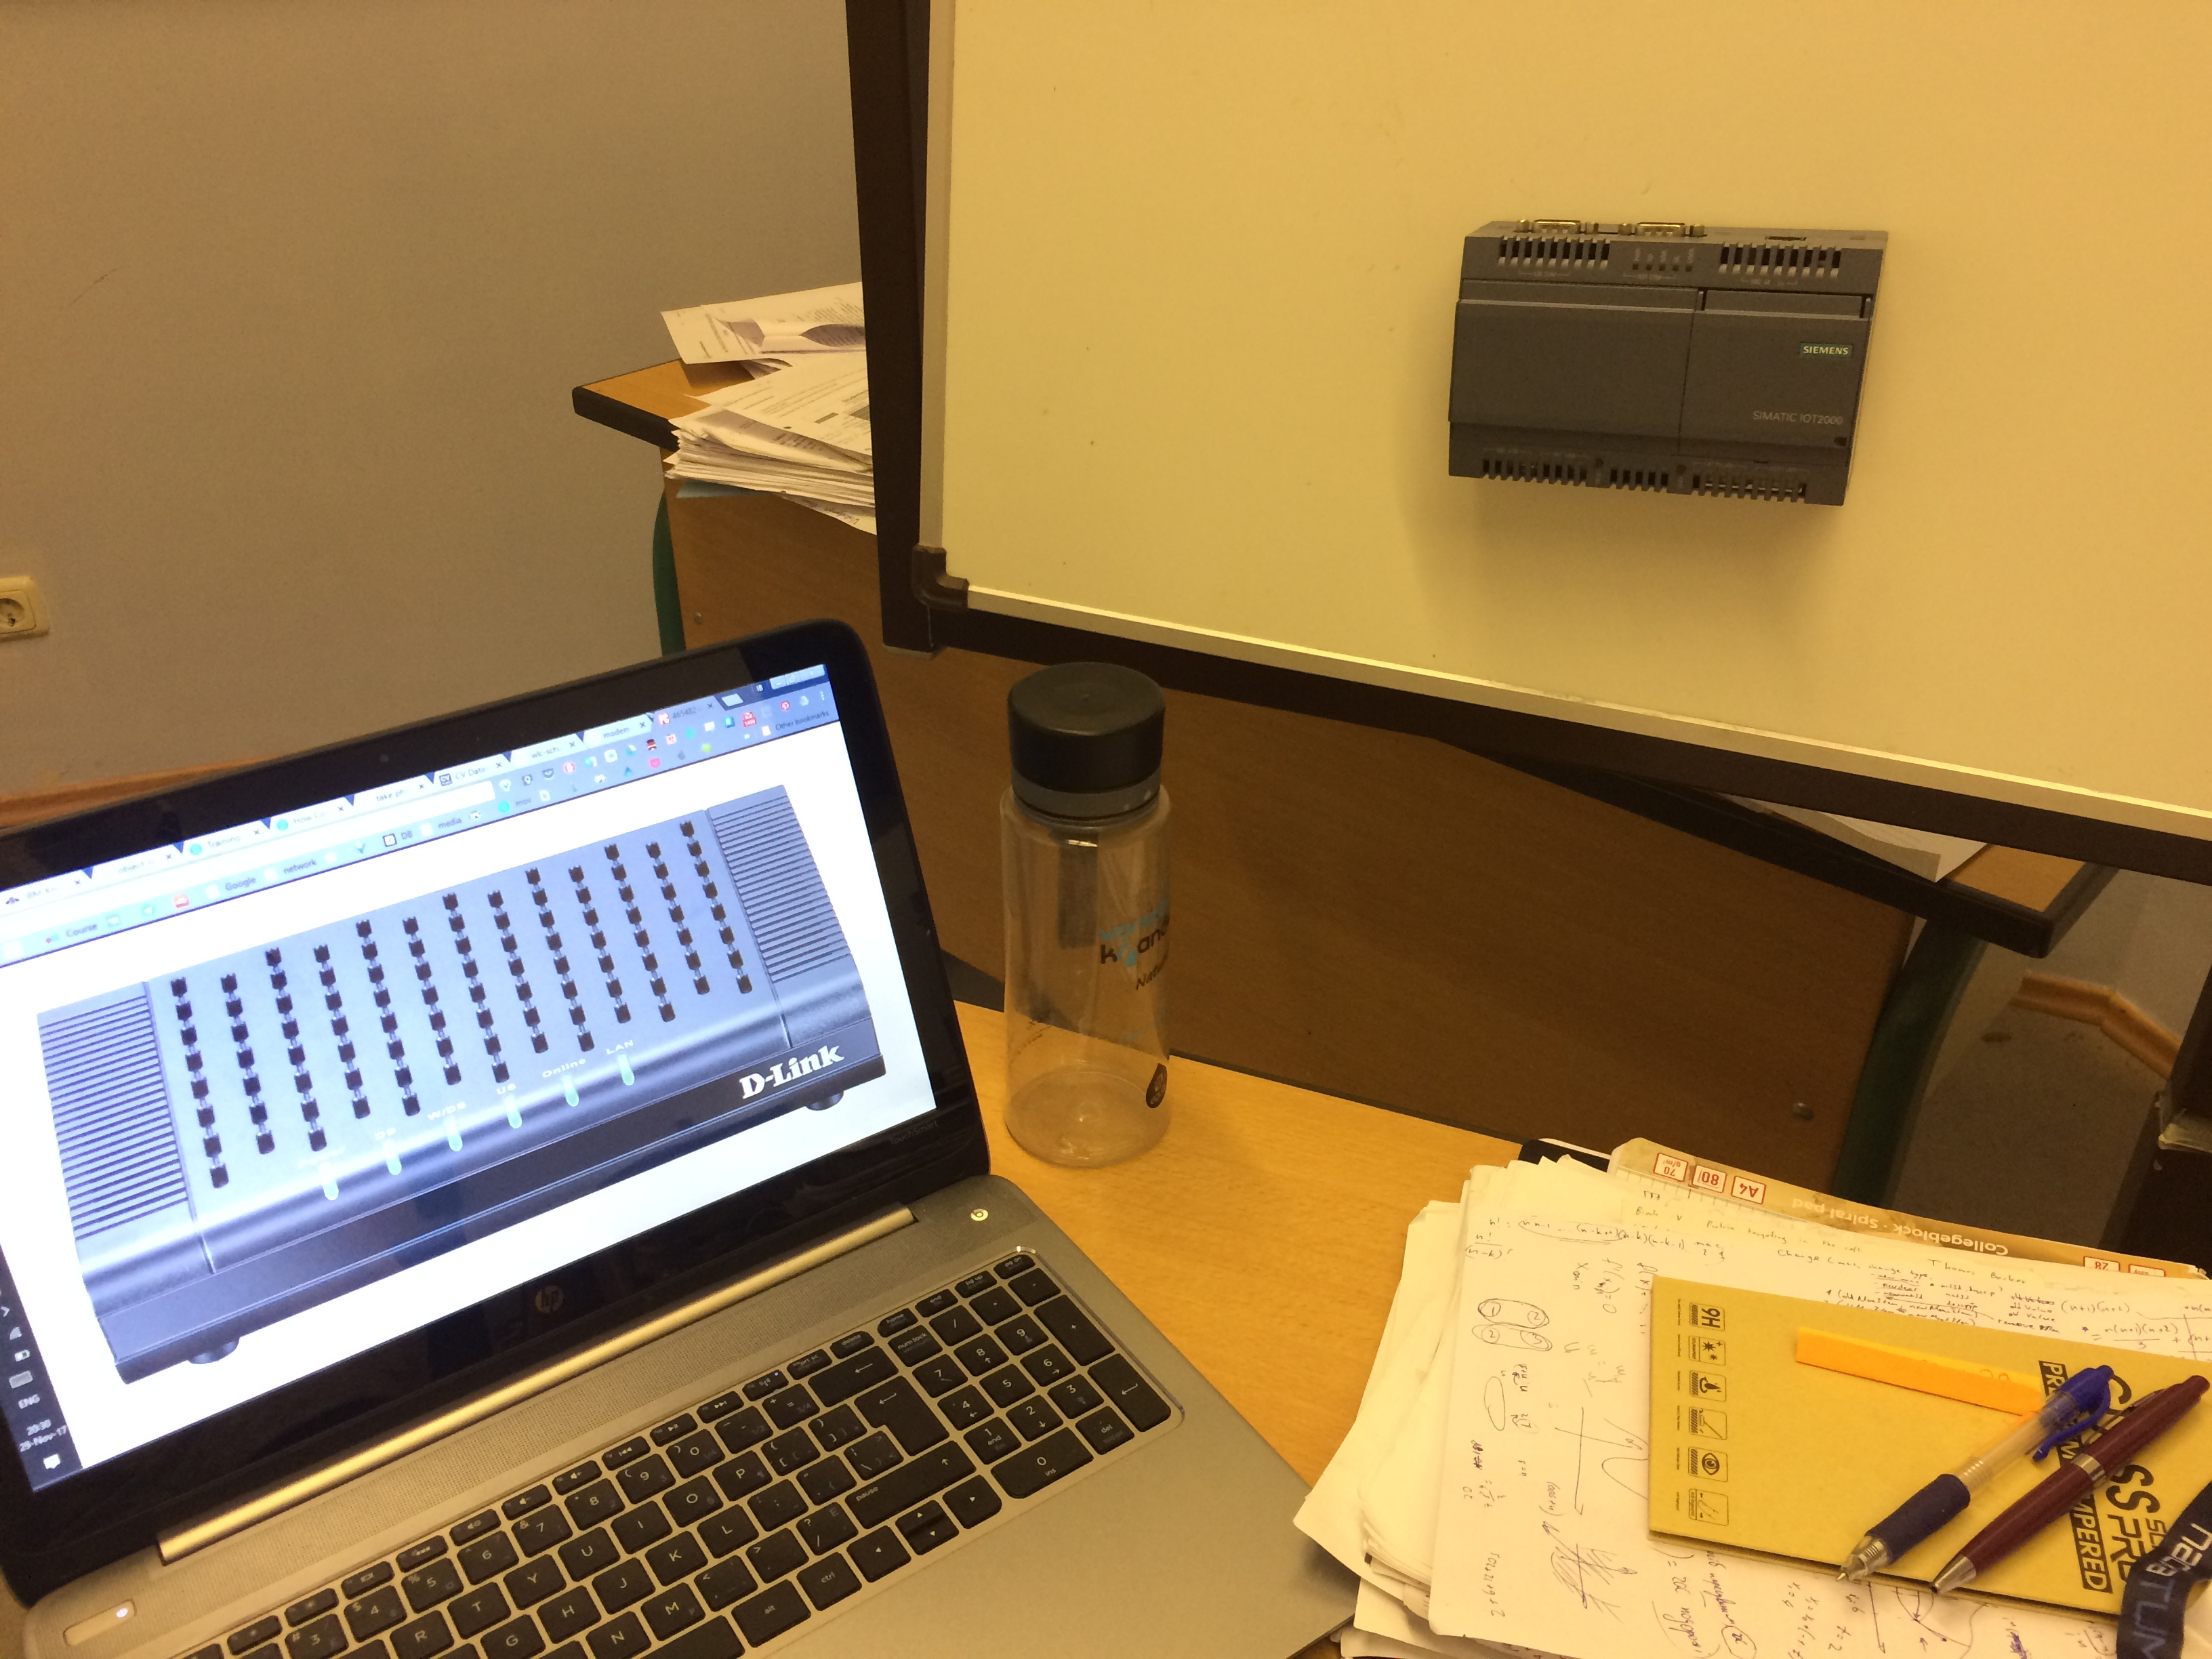iot2000: (1444, 214, 1892, 512)
